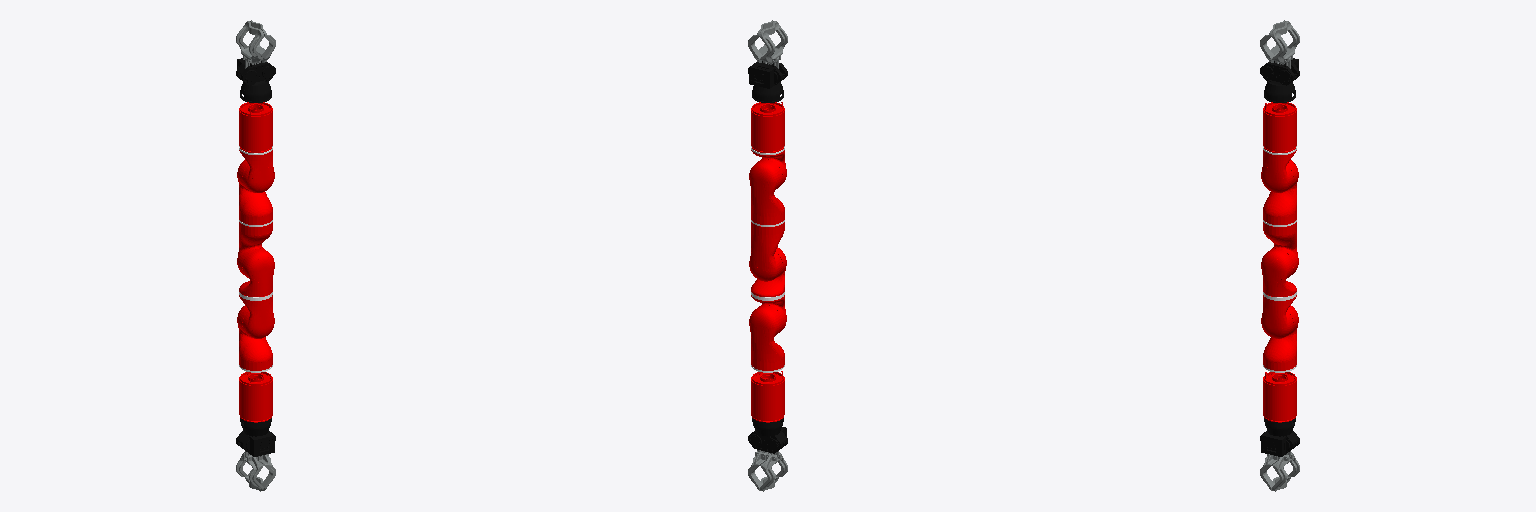
--- What the picture shows (computed from the rendered views, not written in the file) ---
Views: 3 orthographic renders of the robot side by side, from view 1: azimuth 30°, elevation 25°; view 2: azimuth 150°, elevation 25°; view 3: azimuth 330°, elevation 25°.
Robot: climbot — 28 links, 27 joints (5 revolute, 4 prismatic, 18 fixed); root link base_gripper1; default pose: all joints at 0.
Visible links, largest first — view 1: I5_InLink_1, I1_InLink_1, T3_OutLink_2, G6_palm_link, T2_InLink_1, T4_InLink_1, G0_palm_link, T4_OutLink_2, T2_OutLink_2, T3_InLink_1, G6_finger_link_l, G0_finger_link_l; view 2: T2_InLink_1, T4_InLink_1, I5_InLink_1, I1_InLink_1, T3_InLink_1, G6_palm_link, G0_palm_link, G6_finger_link_l, T3_OutLink_2, G0_finger_link_l; view 3: I5_InLink_1, I1_InLink_1, T3_OutLink_2, G6_palm_link, T2_InLink_1, T4_InLink_1, G0_palm_link, T4_OutLink_2, T2_OutLink_2, T3_InLink_1, G6_finger_link_r, G0_finger_link_r.
Boxes of the visible links, left/top/right/bottom form: I5_InLink_1: left=239, top=102, right=272, bottom=152; I1_InLink_1: left=239, top=372, right=272, bottom=422; T3_OutLink_2: left=239, top=248, right=274, bottom=296; G6_palm_link: left=236, top=58, right=275, bottom=102; T2_InLink_1: left=237, top=305, right=272, bottom=370; T4_InLink_1: left=237, top=160, right=272, bottom=224; G0_palm_link: left=236, top=418, right=275, bottom=456; T4_OutLink_2: left=239, top=148, right=274, bottom=192; T2_OutLink_2: left=239, top=295, right=274, bottom=338; T3_InLink_1: left=237, top=222, right=272, bottom=274; G6_finger_link_l: left=236, top=21, right=263, bottom=68; G0_finger_link_l: left=236, top=451, right=263, bottom=491; T2_InLink_1: left=749, top=305, right=784, bottom=370; T4_InLink_1: left=749, top=159, right=784, bottom=224; I5_InLink_1: left=751, top=102, right=784, bottom=152; I1_InLink_1: left=751, top=371, right=784, bottom=422; T3_InLink_1: left=749, top=222, right=784, bottom=281; G6_palm_link: left=748, top=61, right=787, bottom=102; G0_palm_link: left=748, top=418, right=787, bottom=453; G6_finger_link_l: left=760, top=21, right=787, bottom=68; T3_OutLink_2: left=751, top=247, right=786, bottom=296; G0_finger_link_l: left=760, top=451, right=787, bottom=491; I5_InLink_1: left=1263, top=102, right=1296, bottom=152; I1_InLink_1: left=1263, top=372, right=1296, bottom=422; T3_OutLink_2: left=1261, top=248, right=1296, bottom=296; G6_palm_link: left=1260, top=58, right=1299, bottom=102; T2_InLink_1: left=1263, top=305, right=1298, bottom=370; T4_InLink_1: left=1263, top=160, right=1298, bottom=224; G0_palm_link: left=1260, top=418, right=1299, bottom=456; T4_OutLink_2: left=1261, top=148, right=1296, bottom=192; T2_OutLink_2: left=1261, top=295, right=1296, bottom=338; T3_InLink_1: left=1263, top=222, right=1298, bottom=274; G6_finger_link_r: left=1272, top=21, right=1299, bottom=68; G0_finger_link_r: left=1272, top=451, right=1299, bottom=491.
Size in the robot's own frame: 0.1119 by 0.101 by 1.5 metres.
20 mesh visuals loaded from 11 distinct referenced files (8 binary STL); not drawn: 6 (reference not matched to a file when rendering).

URDF robot description (climbot):
<?xml version="1.0" ?>
<!-- =================================================================================== -->
<!-- |    This document was autogenerated by xacro from climbot.urdf.xacro             | -->
<!-- |    EDITING THIS FILE BY HAND IS NOT RECOMMENDED                                 | -->
<!-- =================================================================================== -->
<robot name="climbot" xmlns:xacro="http://www.ros.org/wiki/xacro">
  <!-- materials for visualization -->
  <material name="Orange">
    <color rgba="1.0 0.4 0.0 1.0"/>
  </material>
  <material name="Grey">
    <color rgba="0.7 0.7 0.7 1.0"/>
  </material>
  <material name="DarkGrey">
    <color rgba="0.3 0.3 0.3 1.0"/>
  </material>
  <material name="White">
    <color rgba="1.0 1.0 1.0 1.0"/>
  </material>
  <material name="Black">
    <color rgba="0.0 0.0 0.0 1.0"/>
  </material>
  <material name="Red">
    <color rgba="1.0 0.0 0.0 1.0"/>
  </material>
  <material name="Green">
    <color rgba="0.0 1.0 0.0 1.0"/>
  </material>
  <material name="Blue">
    <color rgba="0.0 0.0 0.8 1.0"/>
  </material>
  <material name="LightGrey">
    <color rgba="0.82 0.82 0.82 1.0"/>
  </material>
  <!-- I Module -->
  <!--definition of default_inertial -->
  <!-- T Module -->
  <!--definition of default_inertial -->
  <!-- T Invert Module -->
  <!--definition of default_inertial -->
  <!-- Gripper100 Module -->
  <!--definition of default_inertial -->
  <!-- Gripper100 invert Module -->
  <!--definition of default_inertial -->
  <!-- Now we can start using the macros included above to define the actual robot -->
  <!-- The first use of a macro.  This one was defined in base.urdf.xacro above.
       A macro like this will expand to a set of link and joint definitions, and to additional
       Gazebo-related extensions (sensor plugins, etc).  The macro takes an argument, name, 
       that equals "base", and uses it to generate names for its component links and joints 
       (e.g., base_link).  The included origin block is also an argument to the macro.  By convention, 
       the origin block defines where the component is w.r.t its parent (in this case the parent 
       is the world frame). For more, see http://www.ros.org/wiki/xacro -->
  <!--    climbot move group 1-->
  <link name="base_gripper1"/>
  <!--  <link name="${name}_tcp" />-->
  <!-- joint between tcp_link and palm _Link -->
  <joint name="G0_joint_0" type="fixed">
    <origin rpy="-1.57079632679 0 0" xyz="0 0 0.17836"/>
    <child link="G0_palm_link"/>
    <!--    <parent link="${name}_tcp" />-->
    <parent link="base_gripper1"/>
  </joint>
  <!--the palm link-->
  <link name="G0_palm_link">
    <inertial>
      <origin rpy="0 0 0" xyz="-0.000330111921985683 0.0532067396112178 -0.00203994238779312"/>
      <mass value="1.0043961075726"/>
      <inertia ixx="0.00113334295507504" ixy="8.90230328283654E-06" ixz="-1.34473831837329E-06" iyy="0.000914211060471031" iyz="-6.54903141389812E-05" izz="0.00129135037593152"/>
    </inertial>
    <visual>
      <origin rpy="0 0 0" xyz="0 0 0"/>
      <geometry>
        <mesh filename="package://mr_description/meshes/palm_link.STL"/>
      </geometry>
      <material name="">
        <color rgba="0.1 0.1 0.1 1"/>
      </material>
    </visual>
    <collision>
      <origin rpy="1.57079632679 0 0" xyz="0 0.065 0"/>
      <!--      <origin xyz="0 0 0" rpy="0 0 0" />-->
      <geometry>
        <cylinder length="0.12" radius="0.05"/>
        <!--        <mesh filename="package://mr_description/meshes/palm_link.STL" />-->
      </geometry>
    </collision>
  </link>
  <!--  joint between the palm and the left finger-->
  <joint name="G0_finger_joint_l" type="prismatic">
    <origin rpy="0 0 0" xyz="0.038 0 0"/>
    <parent link="G0_palm_link"/>
    <child link="G0_finger_link_l"/>
    <axis xyz="-1 0 0"/>
    <limit effort="0" lower="0" upper="0.04" velocity="0"/>
    <dynamics damping="1" friction="1"/>
  </joint>
  <!--  the left finger link-->
  <link name="G0_finger_link_l">
    <inertial>
      <origin rpy="0 0 0" xyz="-0.053748 0.15337 2.2717E-07"/>
      <mass value="0.89853"/>
      <inertia ixx="0.0023606" ixy="-0.00017835" ixz="4.9579E-09" iyy="0.00087228" iyz="-8.5058E-09" izz="0.0018271"/>
    </inertial>
    <visual>
      <origin rpy="0 0 0" xyz="0 0 0"/>
      <geometry>
        <mesh filename="package://mr_description/meshes/finger_link_l.STL"/>
      </geometry>
      <material name="">
        <color rgba="0.52941 0.54902 0.54902 1"/>
      </material>
    </visual>
    <collision>
      <origin rpy="0 0 0" xyz="-0.05 0.18 0"/>
      <!--      <origin  xyz="0 0 0" rpy="0 0 0" />-->
      <geometry>
        <box size="0.01 0.1 0.1"/>
        <!--        <mesh filename="package://mr_description/meshes/finger_link_l.STL" />-->
      </geometry>
    </collision>
  </link>
  <!--  joint between the right finger and the palm-->
  <joint name="G0_finger_joint_r" type="prismatic">
    <origin rpy="0 0 0" xyz="-0.038 0 0"/>
    <parent link="G0_palm_link"/>
    <child link="G0_finger_link_r"/>
    <axis xyz="1 0 0"/>
    <limit effort="0" lower="0" upper="0.04" velocity="0"/>
    <dynamics damping="1" friction="1"/>
  </joint>
  <!-- the right finger link-->
  <link name="G0_finger_link_r">
    <inertial>
      <origin rpy="0 0 0" xyz="0.053748 0.15337 -2.2717E-07"/>
      <mass value="0.89853"/>
      <inertia ixx="0.0023606" ixy="0.00017835" ixz="4.9579E-09" iyy="0.00087228" iyz="8.5058E-09" izz="0.0018271"/>
    </inertial>
    <visual>
      <origin rpy="0 0 0" xyz="0 0 0"/>
      <geometry>
        <mesh filename="package://mr_description/meshes/finger_link_r.STL"/>
      </geometry>
      <material name="">
        <color rgba="0.52941 0.54902 0.54902 1"/>
      </material>
    </visual>
    <collision>
      <origin rpy="0 0 0" xyz="0.05 0.18 0"/>
      <!--      <origin xyz="0 0 0" rpy="0 0 0" />-->
      <geometry>
        <box size="0.01 0.1 0.1"/>
        <!--        <mesh filename="package://mr_description/meshes/finger_link_r.STL" />-->
      </geometry>
    </collision>
  </link>
  <!-- joint between base_link and Lockring_Link -->
  <joint name="I1_joint_0" type="fixed">
    <origin rpy="1.57079632679 0 0" xyz="0 0 0"/>
    <parent link="G0_palm_link"/>
    <child link="I1_Lr_Link_0"/>
  </joint>
  <!--the Lockring_Link in I module-->
  <link name="I1_Lr_Link_0">
    <inertial>
      <origin rpy="0 0 1" xyz="1.7347E-18 4.5022E-17 0.0028047"/>
      <mass value="0.0017728"/>
      <inertia ixx="2.1769E-06" ixy="-6.7209E-37" ixz="8.0356E-39" iyy="2.1769E-06" iyz="-1.0785E-36" izz="4.3442E-06"/>
    </inertial>
    <visual>
      <origin rpy="0 0 0" xyz="0 0 0"/>
      <geometry>
        <mesh filename="package://mr_description/meshes/VI_InLink.STL"/>
      </geometry>
      <material name="White"/>
    </visual>
    <!--    <collision>-->
    <!--      <origin xyz="0 0 0" rpy="0 0 0" />-->
    <!--      <geometry>-->
    <!--        <mesh filename="package://mr_description/meshes/VI_InLink.STL" />-->
    <!--      </geometry>-->
    <!--    </collision>-->
  </link>
  <!-- joint between Lockring_Link and IModule_InLink -->
  <joint name="I1_Lr_Joint_1" type="fixed">
    <origin rpy="0 0 0" xyz="0 0 0"/>
    <parent link="I1_Lr_Link_0"/>
    <child link="I1_InLink_1"/>
    <axis xyz="0 0 0"/>
    <limit effort="0" lower="0" upper="0" velocity="0"/>
  </joint>
  <!--the IModule_InLink in I module-->
  <link name="I1_InLink_1">
    <inertial>
      <origin rpy="0 0 0" xyz="0.0024379 -0.0024994 0.076186"/>
      <mass value="0.58944"/>
      <inertia ixx="0.0012341" ixy="-3.8775E-05" ixz="-3.5596E-05" iyy="0.001235" iyz="3.487E-05" izz="0.00097195"/>
    </inertial>
    <visual>
      <origin rpy="0 0 0" xyz="0 0 0"/>
      <geometry>
        <mesh filename="package://mr_description/meshes/I_InLink.STL"/>
      </geometry>
      <material name="Red"/>
    </visual>
    <collision>
      <!--      <origin   xyz="0 0 0"  rpy="0 0 0" />-->
      <origin rpy="0 0 0" xyz="0 0 0.083"/>
      <geometry>
        <!--        <mesh   filename="package://mr_description/meshes/I_InLink.STL" />-->
        <cylinder length="0.158" radius="0.05"/>
      </geometry>
    </collision>
  </link>
  <!-- joint between IModule_InLink and IModule_OutLink -->
  <joint name="I1_Joint_2" type="revolute">
    <origin rpy="0 0 0" xyz="0 0 0.12015"/>
    <parent link="I1_InLink_1"/>
    <child link="I1_OutLink_2"/>
    <axis xyz="0 0 1"/>
    <limit effort="0" lower="-3.14" upper="3.14" velocity="0"/>
  </joint>
  <!--the IModule_OutLink in I module-->
  <link name="I1_OutLink_2">
    <inertial>
      <origin rpy="0 0 0" xyz="-2.1654E-06 1.6134E-06 0.015967"/>
      <mass value="1.185"/>
      <inertia ixx="0.0008146" ixy="-5.4911E-08" ixz="-2.4725E-08" iyy="0.00081463" iyz="1.7434E-08" izz="0.0013197"/>
    </inertial>
    <visual>
      <origin rpy="0 0 0" xyz="0 0 0"/>
      <geometry>
        <mesh filename="package://mr_description/meshes/I_OutLink.STL"/>
      </geometry>
      <material name="Red"/>
    </visual>
    <!--    <collision>-->
    <!--      <origin  xyz="0 0 0" rpy="0 0 0" />-->
    <!--      <geometry>-->
    <!--        <mesh  filename="package://mr_description/meshes/I_OutLink.STL" />-->
    <!--      </geometry>-->
    <!--    </collision>-->
  </link>
  <!-- joint between IModule_OutLink and Lockring_Link -->
  <joint name="I1_Lr_Joint_3" type="fixed">
    <origin rpy="0 0 0" xyz="0 0 0.0432"/>
    <parent link="I1_OutLink_2"/>
    <child link="I1_Lr_Link_3"/>
    <axis xyz="0 0 0"/>
    <limit effort="0" lower="0" upper="0" velocity="0"/>
  </joint>
  <!--the Lockring_Link in I module-->
  <link name="I1_Lr_Link_3">
    <inertial>
      <origin rpy="0 0 0" xyz="-1.7347E-18 4.5159E-17 -0.00285"/>
      <mass value="0.0017728"/>
      <inertia ixx="2.1769E-06" ixy="-9.5009E-37" ixz="1.6071E-38" iyy="2.1769E-06" iyz="-1.0575E-36" izz="4.3442E-06"/>
    </inertial>
    <visual>
      <origin rpy="0 0 0" xyz="0 0 0"/>
      <geometry>
        <mesh filename="package://mr_description/meshes/VI_OutLink.STL"/>
      </geometry>
      <material name="White"/>
    </visual>
    <!--    <collision>-->
    <!--      <origin  xyz="0 0 0" rpy="0 0 0" />-->
    <!--      <geometry>-->
    <!--        <mesh  filename="package://mr_description/meshes/VI_OutLink.STL" />-->
    <!--      </geometry>-->
    <!--    </collision>-->
  </link>
  <!-- joint between base_link and Lockring_Link -->
  <joint name="T2_joint_0" type="fixed">
    <origin rpy="0 0 0" xyz="0 0 0"/>
    <parent link="I1_Lr_Link_3"/>
    <child link="T2_Lr_Link_0"/>
  </joint>
  <!--the Lockring_Link in T module-->
  <link name="T2_Lr_Link_0">
    <inertial>
      <origin rpy="0 0 0" xyz="2.9038E-18 -2.1866E-18 0.0015"/>
      <mass value="8.4823E-05"/>
      <inertia ixx="2.5447E-10" ixy="-1.2925E-27" ixz="4.3983E-28" iyy="2.5447E-10" iyz="3.5597E-27" izz="3.817E-10"/>
    </inertial>
    <visual>
      <origin rpy="0 0 0" xyz="0 0 0"/>
      <geometry>
        <mesh filename="package://mr_description/meshes/VT_InLink.STL"/>
      </geometry>
      <material name="White"/>
    </visual>
    <!--    <collision>-->
    <!--      <origin xyz="0 0 0" rpy="0 0 0" />-->
    <!--      <geometry>-->
    <!--        <mesh filename="package://mr_description/meshes/VT_InLink.STL" />-->
    <!--      </geometry>-->
    <!--    </collision>-->
  </link>
  <!-- joint between Lockring_Link and TModule_InLink -->
  <joint name="T2_Lr_Joint_1" type="fixed">
    <origin rpy="0 0 0" xyz="0 0 0"/>
    <parent link="T2_Lr_Link_0"/>
    <child link="T2_InLink_1"/>
    <axis xyz="0 0 0"/>
    <limit effort="0" lower="0" upper="0" velocity="0"/>
  </joint>
  <!--the TModule_InLink in T module-->
  <link name="T2_InLink_1">
    <inertial>
      <origin rpy="0 0 0" xyz="4.5327E-06 0.014724 0.10236"/>
      <mass value="0.8287"/>
      <inertia ixx="0.0027398" ixy="-8.0424E-07" ixz="-2.3991E-06" iyy="0.0028894" iyz="0.00016467" izz="0.00086451"/>
    </inertial>
    <visual>
      <origin rpy="0 0 0" xyz="0 0 0"/>
      <geometry>
        <mesh filename="package://mr_description/meshes/T_InLink.STL"/>
      </geometry>
      <material name="Red"/>
    </visual>
    <collision>
      <origin rpy="0 0 0" xyz="0 0 0.04"/>
      <!--      <origin   xyz="0 0 0"  rpy="0 0 0" />-->
      <geometry>
        <cylinder length="0.07" radius="0.05"/>
        <!--        <mesh   filename="package://mr_description/meshes/T_InLink.STL" />-->
      </geometry>
    </collision>
  </link>
  <!-- joint between TModule_InLink and TModule_OutLink -->
  <joint name="T2_Joint_2" type="revolute">
    <origin rpy="-1.5708 1.2251E-16 -3.1416" xyz="0 0 0.1466"/>
    <parent link="T2_InLink_1"/>
    <child link="T2_OutLink_2"/>
    <axis xyz="0 0 1"/>
    <limit effort="0" lower="-2.07" upper="2.07" velocity="0"/>
  </joint>
  <!--the TModule_OutLink in T module-->
  <link name="T2_OutLink_2">
    <inertial>
      <origin rpy="0 0 0" xyz="2.0762E-05 -0.0094284 0.014486"/>
      <mass value="1.4322"/>
      <inertia ixx="0.0018144" ixy="-1.0634E-06" ixz="9.3521E-08" iyy="0.0011673" iyz="8.3209E-05" izz="0.0023046"/>
    </inertial>
    <visual>
      <origin rpy="0 0 0" xyz="0 0 0"/>
      <geometry>
        <mesh filename="package://mr_description/meshes/T_OutLink.STL"/>
      </geometry>
      <material name="Red"/>
    </visual>
    <collision>
      <origin rpy="1.57079632679 0 0" xyz="0 -0.025 0"/>
      <!--      <origin  xyz="0 0 0" rpy="0 0 0" />-->
      <geometry>
        <cylinder length="0.12" radius="0.05"/>
        <!--        <mesh  filename="package://mr_description/meshes/T_OutLink.STL" />-->
      </geometry>
    </collision>
  </link>
  <!-- joint between TModule_OutLink and Lockring_Link -->
  <joint name="T2_Lr_Joint_3" type="fixed">
    <origin rpy="-1.5708 0 3.1416" xyz="0 -0.0934 0"/>
    <parent link="T2_OutLink_2"/>
    <child link="T2_Lr_Link_3"/>
    <axis xyz="0 0 0"/>
    <limit effort="0" lower="0" upper="0" velocity="0"/>
  </joint>
  <!--the Lockring_Link in T module-->
  <link name="T2_Lr_Link_3">
    <inertial>
      <origin rpy="0 0 0" xyz="-2.7136E-19 9.8046E-20 -0.0015"/>
      <mass value="8.4823E-05"/>
      <inertia ixx="2.5447E-10" ixy="0" ixz="-1.9769E-26" iyy="2.5447E-10" iyz="9.4423E-27" izz="3.817E-10"/>
    </inertial>
    <visual>
      <origin rpy="0 0 0" xyz="0 0 0"/>
      <geometry>
        <mesh filename="package://mr_description/meshes/VT_OutLink.STL"/>
      </geometry>
      <material name="White"/>
    </visual>
    <!--    <collision>-->
    <!--      <origin  xyz="0 0 0" rpy="0 0 0" />-->
    <!--      <geometry>-->
    <!--        <mesh  filename="package://mr_description/meshes/VT_OutLink.STL" />-->
    <!--      </geometry>-->
    <!--    </collision>   -->
  </link>
  <!-- joint between base_link and Lockring_Link -->
  <joint name="T3_joint_0" type="fixed">
    <origin rpy="0 0 0" xyz="0 0 0.005"/>
    <!--    <origin xyz="0 0 0.005" rpy="0 0 0" />-->
    <parent link="T2_Lr_Link_3"/>
    <child link="T3_Lr_Link_3"/>
  </joint>
  <!--the Lockring_Link in T module-->
  <link name="T3_Lr_Link_3">
    <inertial>
      <origin rpy="0 0 0" xyz="-2.7136E-19 9.8046E-20 -0.0015"/>
      <mass value="8.4823E-05"/>
      <inertia ixx="2.5447E-10" ixy="0" ixz="-1.9769E-26" iyy="2.5447E-10" iyz="9.4423E-27" izz="3.817E-10"/>
    </inertial>
    <visual>
      <origin rpy="0 0 0" xyz="0 0 0"/>
      <geometry>
        <mesh filename="package://mr_description/meshes/VT_OutLink.STL"/>
      </geometry>
      <material name="White"/>
    </visual>
    <!--    <collision>-->
    <!--      <origin  xyz="0 0 0" rpy="0 0 0" />-->
    <!--      <geometry>-->
    <!--        <mesh  filename="package://mr_description/meshes/VT_OutLink.STL" />-->
    <!--      </geometry>-->
    <!--    </collision>   -->
  </link>
  <!-- joint between TModule_OutLink and Lockring_Link -->
  <joint name="T3_Lr_Joint_3" type="fixed">
    <origin rpy="-1.57079632679 3.1416 3.1416" xyz="0 0 0.0884"/>
    <child link="T3_OutLink_2"/>
    <parent link="T3_Lr_Link_3"/>
    <axis xyz="0 0 0"/>
    <limit effort="0" lower="0" upper="0" velocity="0"/>
  </joint>
  <!--the TModule_OutLink in T module-->
  <link name="T3_OutLink_2">
    <inertial>
      <origin rpy="0 0 0" xyz="2.0762E-05 -0.0094284 0.014486"/>
      <mass value="1.4322"/>
      <inertia ixx="0.0018144" ixy="-1.0634E-06" ixz="9.3521E-08" iyy="0.0011673" iyz="8.3209E-05" izz="0.0023046"/>
    </inertial>
    <visual>
      <origin rpy="0 0 0" xyz="0 0 0"/>
      <geometry>
        <mesh filename="package://mr_description/meshes/T_OutLink.STL"/>
      </geometry>
      <material name="Red"/>
    </visual>
    <collision>
      <origin rpy="1.57079632679 0 0" xyz="0 -0.03 0"/>
      <!--      <origin  xyz="0 0 0" rpy="0 0 0" />-->
      <geometry>
        <cylinder length="0.12" radius="0.05"/>
        <!--        <mesh  filename="package://mr_description/meshes/T_OutLink.STL" />-->
      </geometry>
    </collision>
  </link>
  <!-- joint between TModule_InLink and TModule_OutLink -->
  <joint name="T3_Joint_2" type="revolute">
    <origin rpy="4.7124 -1.2251E-16 3.1416" xyz=" 0 0 0"/>
    <!--    <origin  xyz=" 0 0 -0.1466"  rpy="4.7124 -1.2251E-16 3.1416" />-->
    <child link="T3_InLink_1"/>
    <parent link="T3_OutLink_2"/>
    <axis xyz="0 1 0"/>
    <limit effort="0" lower="-2.07" upper="2.07" velocity="0"/>
  </joint>
  <!--the TModule_InLink in T module-->
  <link name="T3_InLink_1">
    <inertial>
      <origin rpy="0 0 0" xyz="4.5327E-06 0.014724 -0.04424"/>
      <!--      <origin xyz="4.5327E-06 0.014724 0.10236-0.1466" rpy="0 0 0" />-->
      <mass value="0.8287"/>
      <inertia ixx="0.0027398" ixy="-8.0424E-07" ixz="-2.3991E-06" iyy="0.0028894" iyz="0.00016467" izz="0.00086451"/>
    </inertial>
    <visual>
      <origin rpy="0 0 0" xyz="0 0 -0.1466"/>
      <geometry>
        <mesh filename="package://mr_description/meshes/T_InLink.STL"/>
      </geometry>
      <material name="Red"/>
    </visual>
    <collision>
      <origin rpy="0 0 0" xyz="0 0 -0.11"/>
      <!--      <origin   xyz="0 0 -0.1466"  rpy="0 0 0" />-->
      <geometry>
        <cylinder length="0.07" radius="0.05"/>
        <!--        <mesh   filename="package://mr_description/meshes/T_InLink.STL" />-->
      </geometry>
    </collision>
  </link>
  <!-- joint between Lockring_Link and TModule_InLink -->
  <joint name="T3_Lr_Joint_1" type="fixed">
    <origin rpy="0 3.1416 0" xyz="0 0 -0.1416"/>
    <child link="T3_Lr_Link_0"/>
    <parent link="T3_InLink_1"/>
    <axis xyz="0 0 0"/>
    <limit effort="0" lower="0" upper="0" velocity="0"/>
  </joint>
  <!--the Lockring_Link in T module-->
  <link name="T3_Lr_Link_0">
    <inertial>
      <origin rpy="0 0 0" xyz="2.9038E-18 -2.1866E-18 0.0015"/>
      <mass value="8.4823E-05"/>
      <inertia ixx="2.5447E-10" ixy="-1.2925E-27" ixz="4.3983E-28" iyy="2.5447E-10" iyz="3.5597E-27" izz="3.817E-10"/>
    </inertial>
    <visual>
      <origin rpy="0 0 0" xyz="0 0 0"/>
      <geometry>
        <mesh filename="package://mr_description/meshes/VT_InLink.STL"/>
      </geometry>
      <material name="White"/>
    </visual>
    <!--    <collision>-->
    <!--      <origin xyz="0 0 0" rpy="0 0 0" />-->
    <!--      <geometry>-->
    <!--        <mesh filename="package://mr_description/meshes/VT_InLink.STL" />-->
    <!--      </geometry>-->
    <!--    </collision>-->
  </link>
  <!-- joint between base_link and Lockring_Link -->
  <joint name="T4_joint_0" type="fixed">
    <origin rpy="0 0 0" xyz="0 0 0"/>
    <parent link="T3_Lr_Link_0"/>
    <child link="T4_Lr_Link_0"/>
  </joint>
  <!--the Lockring_Link in T module-->
  <link name="T4_Lr_Link_0">
    <inertial>
      <origin rpy="0 0 0" xyz="2.9038E-18 -2.1866E-18 0.0015"/>
      <mass value="8.4823E-05"/>
      <inertia ixx="2.5447E-10" ixy="-1.2925E-27" ixz="4.3983E-28" iyy="2.5447E-10" iyz="3.5597E-27" izz="3.817E-10"/>
    </inertial>
    <visual>
      <origin rpy="0 0 0" xyz="0 0 0"/>
      <geometry>
        <mesh filename="package://mr_description/meshes/VT_InLink.STL"/>
      </geometry>
      <material name="White"/>
    </visual>
    <!--    <collision>-->
    <!--      <origin xyz="0 0 0" rpy="0 0 0" />-->
    <!--      <geometry>-->
    <!--        <mesh filename="package://mr_description/meshes/VT_InLink.STL" />-->
    <!--      </geometry>-->
    <!--    </collision>-->
  </link>
  <!-- joint between Lockring_Link and TModule_InLink -->
  <joint name="T4_Lr_Joint_1" type="fixed">
    <origin rpy="0 0 0" xyz="0 0 0"/>
    <parent link="T4_Lr_Link_0"/>
    <child link="T4_InLink_1"/>
    <axis xyz="0 0 0"/>
    <limit effort="0" lower="0" upper="0" velocity="0"/>
  </joint>
  <!--the TModule_InLink in T module-->
  <link name="T4_InLink_1">
    <inertial>
      <origin rpy="0 0 0" xyz="4.5327E-06 0.014724 0.10236"/>
      <mass value="0.8287"/>
      <inertia ixx="0.0027398" ixy="-8.0424E-07" ixz="-2.3991E-06" iyy="0.0028894" iyz="0.00016467" izz="0.00086451"/>
    </inertial>
    <visual>
      <origin rpy="0 0 0" xyz="0 0 0"/>
      <geometry>
        <mesh filename="package://mr_description/meshes/T_InLink.STL"/>
      </geometry>
      <material name="Red"/>
    </visual>
    <collision>
      <origin rpy="0 0 0" xyz="0 0 0.04"/>
      <!--      <origin   xyz="0 0 0"  rpy="0 0 0" />-->
      <geometry>
        <cylinder length="0.07" radius="0.05"/>
        <!--        <mesh   filename="package://mr_description/meshes/T_InLink.STL" />-->
      </geometry>
    </collision>
  </link>
  <!-- joint between TModule_InLink and TModule_OutLink -->
  <joint name="T4_Joint_2" type="revolute">
    <origin rpy="-1.5708 1.2251E-16 -3.1416" xyz="0 0 0.1466"/>
    <parent link="T4_InLink_1"/>
    <child link="T4_OutLink_2"/>
    <axis xyz="0 0 1"/>
    <limit effort="0" lower="-2.07" upper="2.07" velocity="0"/>
  </joint>
  <!--the TModule_OutLink in T module-->
  <link name="T4_OutLink_2">
    <inertial>
      <origin rpy="0 0 0" xyz="2.0762E-05 -0.0094284 0.014486"/>
      <mass value="1.4322"/>
      <inertia ixx="0.0018144" ixy="-1.0634E-06" ixz="9.3521E-08" iyy="0.0011673" iyz="8.3209E-05" izz="0.0023046"/>
    </inertial>
    <visual>
      <origin rpy="0 0 0" xyz="0 0 0"/>
      <geometry>
        <mesh filename="package://mr_description/meshes/T_OutLink.STL"/>
      </geometry>
      <material name="Red"/>
    </visual>
    <collision>
      <origin rpy="1.57079632679 0 0" xyz="0 -0.025 0"/>
      <!--      <origin  xyz="0 0 0" rpy="0 0 0" />-->
      <geometry>
        <cylinder length="0.12" radius="0.05"/>
        <!--        <mesh  filename="package://mr_description/meshes/T_OutLink.STL" />-->
      </geometry>
    </collision>
  </link>
  <!-- joint between TModule_OutLink and Lockring_Link -->
  <joint name="T4_Lr_Joint_3" type="fixed">
    <origin rpy="-1.5708 0 3.1416" xyz="0 -0.0934 0"/>
    <parent link="T4_OutLink_2"/>
    <child link="T4_Lr_Link_3"/>
    <axis xyz="0 0 0"/>
    <limit effort="0" lower="0" upper="0" velocity="0"/>
  </joint>
  <!--the Lockring_Link in T module-->
  <link name="T4_Lr_Link_3">
    <inertial>
      <origin rpy="0 0 0" xyz="-2.7136E-19 9.8046E-20 -0.0015"/>
      <mass value="8.4823E-05"/>
      <inertia ixx="2.5447E-10" ixy="0" ixz="-1.9769E-26" iyy="2.5447E-10" iyz="9.4423E-27" izz="3.817E-10"/>
    </inertial>
    <visual>
      <origin rpy="0 0 0" xyz="0 0 0"/>
      <geometry>
        <mesh filename="package://mr_description/meshes/VT_OutLink.STL"/>
      </geometry>
      <material name="White"/>
    </visual>
    <!--    <collision>-->
    <!--      <origin  xyz="0 0 0" rpy="0 0 0" />-->
    <!--      <geometry>-->
    <!--        <mesh  filename="package://mr_description/meshes/VT_OutLink.STL" />-->
    <!--      </geometry>-->
    <!--    </collision>   -->
  </link>
  <!-- joint between base_link and Lockring_Link -->
  <joint name="I5_joint_0" type="fixed">
    <origin rpy="0 0 0" xyz="0 0 0"/>
    <parent link="T4_Lr_Link_3"/>
    <child link="I5_Lr_Link_0"/>
  </joint>
  <!--the Lockring_Link in I module-->
  <link name="I5_Lr_Link_0">
    <inertial>
      <origin rpy="0 0 1" xyz="1.7347E-18 4.5022E-17 0.0028047"/>
      <mass value="0.0017728"/>
      <inertia ixx="2.1769E-06" ixy="-6.7209E-37" ixz="8.0356E-39" iyy="2.1769E-06" iyz="-1.0785E-36" izz="4.3442E-06"/>
    </inertial>
    <visual>
      <origin rpy="0 0 0" xyz="0 0 0"/>
      <geometry>
        <mesh filename="package://mr_description/meshes/VI_InLink.STL"/>
      </geometry>
      <material name="White"/>
    </visual>
    <!--    <collision>-->
    <!--      <origin xyz="0 0 0" rpy="0 0 0" />-->
    <!--      <geometry>-->
    <!--        <mesh filename="package://mr_description/meshes/VI_InLink.STL" />-->
    <!--      </geometry>-->
    <!--    </collision>-->
  </link>
  <!-- joint between Lockring_Link and IModule_InLink -->
  <joint name="I5_Lr_Joint_1" type="fixed">
    <origin rpy="0 0 0" xyz="0 0 0"/>
    <parent link="I5_Lr_Link_0"/>
    <child link="I5_InLink_1"/>
    <axis xyz="0 0 0"/>
    <limit effort="0" lower="0" upper="0" velocity="0"/>
  </joint>
  <!--the IModule_InLink in I module-->
  <link name="I5_InLink_1">
    <inertial>
      <origin rpy="0 0 0" xyz="0.0024379 -0.0024994 0.076186"/>
      <mass value="0.58944"/>
      <inertia ixx="0.0012341" ixy="-3.8775E-05" ixz="-3.5596E-05" iyy="0.001235" iyz="3.487E-05" izz="0.00097195"/>
    </inertial>
    <visual>
      <origin rpy="0 0 0" xyz="0 0 0"/>
      <geometry>
        <mesh filename="package://mr_description/meshes/I_InLink.STL"/>
      </geometry>
      <material name="Red"/>
    </visual>
    <collision>
      <!--      <origin   xyz="0 0 0"  rpy="0 0 0" />-->
      <origin rpy="0 0 0" xyz="0 0 0.083"/>
      <geometry>
        <!--        <mesh   filename="package://mr_description/meshes/I_InLink.STL" />-->
        <cylinder length="0.158" radius="0.05"/>
      </geometry>
    </collision>
  </link>
  <!-- joint between IModule_InLink and IModule_OutLink -->
  <joint name="I5_Joint_2" type="revolute">
    <origin rpy="0 0 0" xyz="0 0 0.12015"/>
    <parent link="I5_InLink_1"/>
    <child link="I5_OutLink_2"/>
    <axis xyz="0 0 1"/>
    <limit effort="0" lower="-3.14" upper="3.14" velocity="0"/>
  </joint>
  <!--the IModule_OutLink in I module-->
  <link name="I5_OutLink_2">
    <inertial>
      <origin rpy="0 0 0" xyz="-2.1654E-06 1.6134E-06 0.015967"/>
      <mass value="1.185"/>
      <inertia ixx="0.0008146" ixy="-5.4911E-08" ixz="-2.4725E-08" iyy="0.00081463" iyz="1.7434E-08" izz="0.0013197"/>
    </inertial>
    <visual>
      <origin rpy="0 0 0" xyz="0 0 0"/>
      <geometry>
        <mesh filename="package://mr_description/meshes/I_OutLink.STL"/>
      </geometry>
      <material name="Red"/>
    </visual>
    <!--    <collision>-->
    <!--      <origin  xyz="0 0 0" rpy="0 0 0" />-->
    <!--      <geometry>-->
    <!--        <mesh  filename="package://mr_description/meshes/I_OutLink.STL" />-->
    <!--      </geometry>-->
    <!--    </collision>-->
  </link>
  <!-- joint between IModule_OutLink and Lockring_Link -->
  <joint name="I5_Lr_Joint_3" type="fixed">
    <origin rpy="0 0 0" xyz="0 0 0.0432"/>
    <parent link="I5_OutLink_2"/>
    <child link="I5_Lr_Link_3"/>
    <axis xyz="0 0 0"/>
    <limit effort="0" lower="0" upper="0" velocity="0"/>
  </joint>
  <!--the Lockring_Link in I module-->
  <link name="I5_Lr_Link_3">
    <inertial>
      <origin rpy="0 0 0" xyz="-1.7347E-18 4.5159E-17 -0.00285"/>
      <mass value="0.0017728"/>
      <inertia ixx="2.1769E-06" ixy="-9.5009E-37" ixz="1.6071E-38" iyy="2.1769E-06" iyz="-1.0575E-36" izz="4.3442E-06"/>
    </inertial>
    <visual>
      <origin rpy="0 0 0" xyz="0 0 0"/>
      <geometry>
        <mesh filename="package://mr_description/meshes/VI_OutLink.STL"/>
      </geometry>
      <material name="White"/>
    </visual>
    <!--    <collision>-->
    <!--      <origin  xyz="0 0 0" rpy="0 0 0" />-->
    <!--      <geometry>-->
    <!--        <mesh  filename="package://mr_description/meshes/VI_OutLink.STL" />-->
    <!--      </geometry>-->
    <!--    </collision>-->
  </link>
  <!-- joint between parent_link and palm _Link -->
  <joint name="G6_joint_0" type="fixed">
    <origin rpy="1.57079632679 0 0" xyz="0 0 0"/>
    <parent link="I5_Lr_Link_3"/>
    <child link="G6_palm_link"/>
  </joint>
  <!--the palm link-->
  <link name="G6_palm_link">
    <inertial>
      <origin rpy="0 0 0" xyz="-0.000330111921985683 0.0532067396112178 -0.00203994238779312"/>
      <mass value="1.0043961075726"/>
      <inertia ixx="0.00113334295507504" ixy="8.90230328283654E-06" ixz="-1.34473831837329E-06" iyy="0.000914211060471031" iyz="-6.54903141389812E-05" izz="0.00129135037593152"/>
    </inertial>
    <visual>
      <origin rpy="0 0 0" xyz="0 0 0"/>
      <geometry>
        <mesh filename="package://mr_description/meshes/palm_link.STL"/>
      </geometry>
      <material name="">
        <color rgba="0.1 0.1 0.1 1"/>
      </material>
    </visual>
    <collision>
      <origin rpy="1.57079632679 0 0" xyz="0 0.065 0"/>
      <!--      <origin  xyz="0 0 0"  rpy="0 0 0" />-->
      <geometry>
        <cylinder length="0.12" radius="0.05"/>
        <!--        <mesh filename="package://mr_description/meshes/palm_link.STL" />-->
      </geometry>
    </collision>
  </link>
  <!--  joint between the palm and the left finger-->
  <joint name="G6_finger_joint_l" type="prismatic">
    <origin rpy="0 0 0" xyz="0.038 0 0"/>
    <parent link="G6_palm_link"/>
    <child link="G6_finger_link_l"/>
    <axis xyz="-1 0 0"/>
    <limit effort="0" lower="0" upper="0.04" velocity="0"/>
    <dynamics damping="1" friction="1"/>
  </joint>
  <!--  the left finger link-->
  <link name="G6_finger_link_l">
    <inertial>
      <origin rpy="0 0 0" xyz="-0.053748 0.15337 2.2717E-07"/>
      <mass value="0.89853"/>
      <inertia ixx="0.0023606" ixy="-0.00017835" ixz="4.9579E-09" iyy="0.00087228" iyz="-8.5058E-09" izz="0.0018271"/>
    </inertial>
    <visual>
      <origin rpy="0 0 0" xyz="0 0 0"/>
      <geometry>
        <mesh filename="package://mr_description/meshes/finger_link_l.STL"/>
      </geometry>
      <material name="">
        <color rgba="0.52941 0.54902 0.54902 1"/>
      </material>
    </visual>
    <collision>
      <origin rpy="0 0 0" xyz="-0.05 0.18 0"/>
      <!--      <origin xyz="0 0 0" rpy="0 0 0" />-->
      <geometry>
        <box size="0.01 0.1 0.1"/>
        <!--        <mesh filename="package://mr_description/meshes/finger_link_l.STL" />-->
      </geometry>
    </collision>
  </link>
  <!--  joint between the right finger and the palm-->
  <joint name="G6_finger_joint_r" type="prismatic">
    <origin rpy="0 0 0" xyz="-0.038 0 0"/>
    <parent link="G6_palm_link"/>
    <child link="G6_finger_link_r"/>
    <axis xyz="1 0 0"/>
    <limit effort="0" lower="0" upper="0.04" velocity="0"/>
    <dynamics damping="1" friction="1"/>
  </joint>
  <!-- the right finger link-->
  <link name="G6_finger_link_r">
    <inertial>
      <origin rpy="0 0 0" xyz="0.053748 0.15337 -2.2717E-07"/>
      <mass value="0.89853"/>
      <inertia ixx="0.0023606" ixy="0.00017835" ixz="4.9579E-09" iyy="0.00087228" iyz="8.5058E-09" izz="0.0018271"/>
    </inertial>
    <visual>
      <origin rpy="0 0 0" xyz="0 0 0"/>
      <geometry>
        <mesh filename="package://mr_description/meshes/finger_link_r.STL"/>
      </geometry>
      <material name="">
        <color rgba="0.52941 0.54902 0.54902 1"/>
      </material>
    </visual>
    <collision>
      <origin rpy="0 0 0" xyz="0.05 0.18 0"/>
      <!--      <origin xyz="0 0 0" rpy="0 0 0" />-->
      <geometry>
        <box size="0.01 0.1 0.1"/>
        <!--        <mesh filename="package://mr_description/meshes/finger_link_r.STL" />-->
      </geometry>
    </collision>
  </link>
  <!--    joint between the palm link and the tcp-->
  <joint name="G6_tcp_joint" type="fixed">
    <origin rpy="0 0 0" xyz="0 0.17836 0"/>
    <parent link="G6_palm_link"/>
    <child link="G6_tcp"/>
    <axis xyz="0 0 0"/>
  </joint>
  <link name="G6_tcp"/>
  <!--    climbot move group 2-->
  <!--   <link name="base_gripper2" />-->
  <!--   -->
  <!--  <xacro:G_invert name="_G6" parent="base_gripper2">-->
  <!--    <origin xyz="0.2 0 0.17836" rpy="${-pi*0.5} 0 0" />-->
  <!--  </xacro:G_invert>-->
  <!--  <xacro:I_module name="_I5" parent="_G6_palm_link">-->
  <!--    <origin xyz="0 0 0" rpy="${pi*0.5} 0 0" />-->
  <!--  </xacro:I_module>-->
  <!--  <xacro:T_invert name="_T4" parent="_I5_Lr_Link_3">-->
  <!--    <origin xyz="0 0 0.005" rpy="0 0 0" />-->
  <!--  </xacro:T_invert>-->
  <!--  -->
  <!--  <xacro:T_module name="_T3" parent="_T4_Lr_Link_0">-->
  <!--    <origin xyz="0 0 0" rpy="0 0 0" />-->
  <!--  </xacro:T_module>-->
  <!--  <xacro:T_invert name="_T2" parent="_T3_Lr_Link_3">-->
  <!--    <origin xyz="0 0 0.005" rpy="0 0 0" />-->
  <!--  </xacro:T_invert>-->
  <!--  <xacro:I_module name="_I1" parent="_T2_Lr_Link_0">-->
  <!--    <origin xyz="0 0 0" rpy="0 0 0" />-->
  <!--  </xacro:I_module>-->
  <!--  -->
  <!--  <xacro:G_module name="_G0" parent="_I1_Lr_Link_3">-->
  <!--    <origin xyz="0 0 0" rpy="${pi*0.5} 0 0" />-->
  <!--  </xacro:G_module>-->
</robot>
